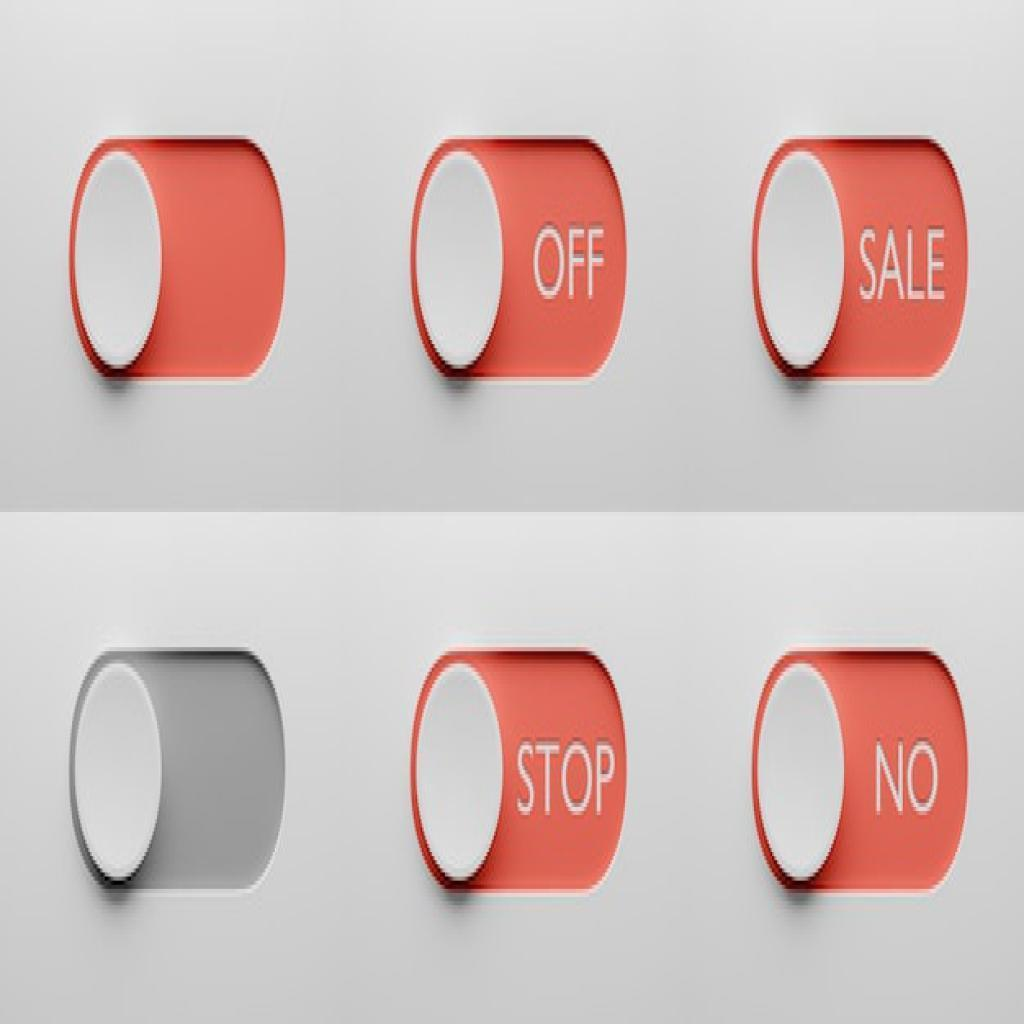switch: (752, 651, 973, 894), (67, 651, 287, 894), (410, 136, 630, 379), (411, 650, 629, 892), (71, 137, 288, 380), (753, 140, 969, 377)
